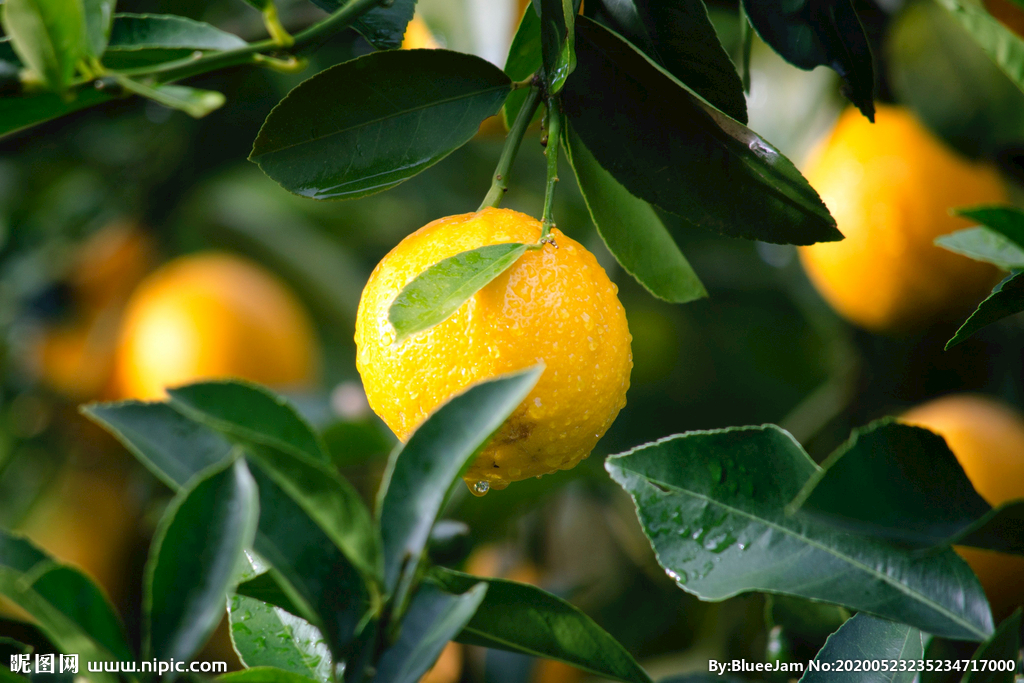orange: (356, 206, 635, 489), (801, 92, 1007, 329), (114, 253, 313, 418)
